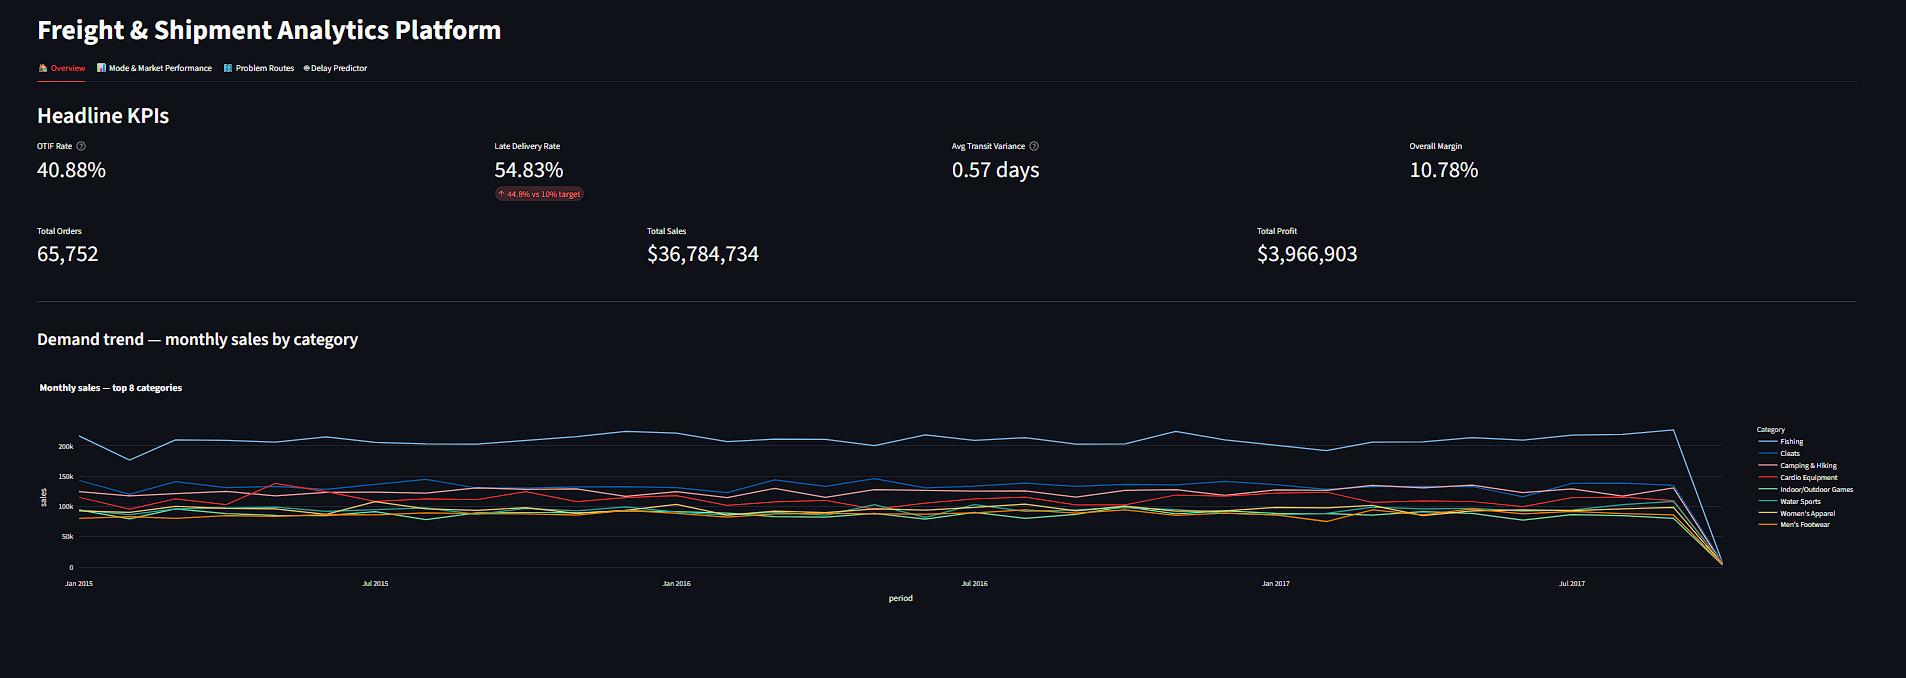

What the dashboard file says about the page in this screenshot:
{"tool":"powerbi","page":{"name":"Overview","canvas":[1280,720],"ordinal":0},"visuals":[{"type":"cardVisual","title":"OTIF Rate (%)","fields":{"Data":["Sum(supply_chain vw_kpi_summary.otif_rate_pct)"]},"box":[16,64,280,160],"z":0},{"type":"cardVisual","title":"Late Delivery Rate (%)","fields":{"Data":["Sum(supply_chain vw_kpi_summary.late_delivery_rate_pct)"]},"box":[336,64,272,160],"z":1000},{"type":"cardVisual","title":"Avg Transit Variance (Days)","fields":{"Data":["Avg(supply_chain vw_kpi_summary.avg_transit_variance_days)"]},"box":[688,64,272,160],"z":2000},{"type":"cardVisual","title":"Overall Margin (%)","fields":{"Data":["Sum(supply_chain vw_kpi_summary.overall_margin_pct)"]},"box":[1008,64,272,160],"z":3000},{"type":"cardVisual","title":"OTIF Rate (%)","fields":{"Data":["Sum(supply_chain vw_kpi_summary.total_orders)"]},"box":[16,224,280,160],"z":4000},{"type":"cardVisual","title":"OTIF Rate (%)","fields":{"Data":["Sum(supply_chain vw_kpi_summary.total_sales)"]},"box":[336,224,272,160],"z":5000},{"type":"cardVisual","title":"OTIF Rate (%)","fields":{"Data":["Sum(supply_chain vw_kpi_summary.total_profit)"]},"box":[688,224,272,160],"z":6000},{"type":"lineChart","title":"Monthly Sales - Top 6 Categories","fields":{"Category":["supply_chain vw_category_demand_monthly.month_number"],"Y":["Sum(supply_chain vw_category_demand_monthly.sales)"],"Series":["supply_chain vw_category_demand_monthly.category_name"]},"box":[0,400,1280,320],"z":7000},{"type":"cardVisual","title":"OTIF Rate (%)","fields":{"Data":["Sum(supply_chain vw_kpi_summary.cancellation_rate_pct)"]},"box":[1008,224,272,160],"z":8000},{"type":"textbox","box":[16,0,1264,64],"z":9000}]}

Visuals, with their boxes on the page's 1280x720 design canvas (x1, y1, x2, y2). These are canvas units, not pixel positions in the 1906x678 screenshot, which may show the page scaled, cropped or inside an application window:
"OTIF Rate (%)" cardVisual: box=[16, 64, 296, 224]
"Late Delivery Rate (%)" cardVisual: box=[336, 64, 608, 224]
"Avg Transit Variance (Days)" cardVisual: box=[688, 64, 960, 224]
"Overall Margin (%)" cardVisual: box=[1008, 64, 1280, 224]
"OTIF Rate (%)" cardVisual: box=[16, 224, 296, 384]
"OTIF Rate (%)" cardVisual: box=[336, 224, 608, 384]
"OTIF Rate (%)" cardVisual: box=[688, 224, 960, 384]
"Monthly Sales - Top 6 Categories" lineChart: box=[0, 400, 1280, 720]
"OTIF Rate (%)" cardVisual: box=[1008, 224, 1280, 384]
textbox: box=[16, 0, 1280, 64]
